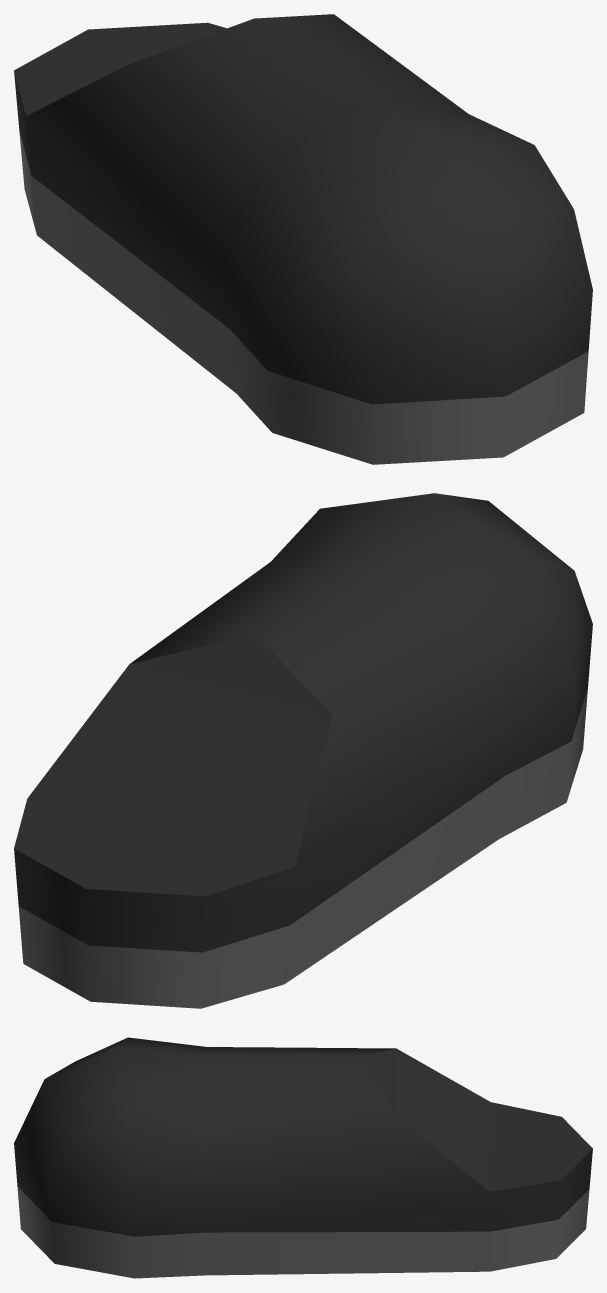
File: SM_bootR.FBX
The picture shows the model from 3 angles, top to bottom: view 1: azimuth 30°, elevation 25°; view 2: azimuth 150°, elevation 25°; view 3: azimuth 270°, elevation 25°; orthographic projection. The views are drawn at different scales.
Visible parts, largest first — view 1: boot_R; view 2: boot_R; view 3: boot_R.
Boxes of the visible parts, box(x1,y1,x2,y2) form: boot_R: box(14, 14, 592, 464); boot_R: box(14, 493, 592, 1008); boot_R: box(14, 1037, 592, 1278).
Size of the model in its own units: 7.71 by 6.62 by 18.04.
